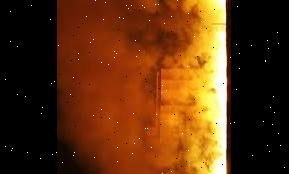fire: (199, 0, 231, 174)
